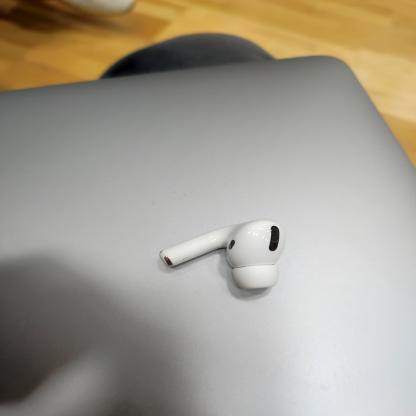Airpods: (157, 217, 293, 299)
